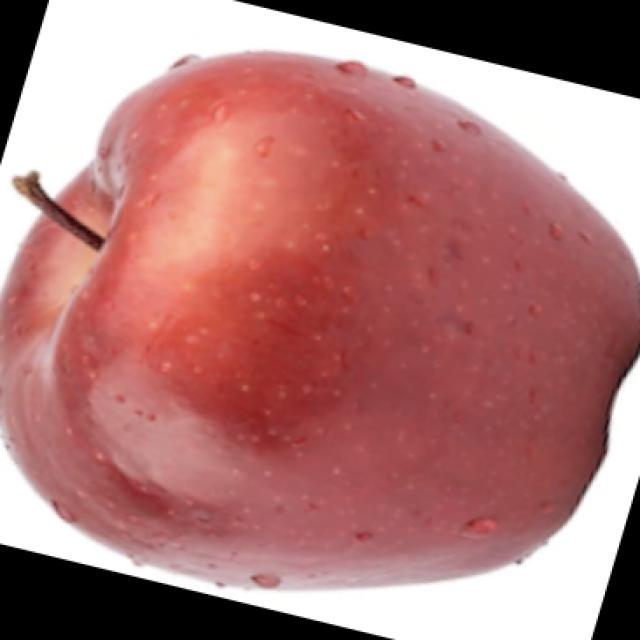Fresh Apple: (21, 55, 640, 595)
